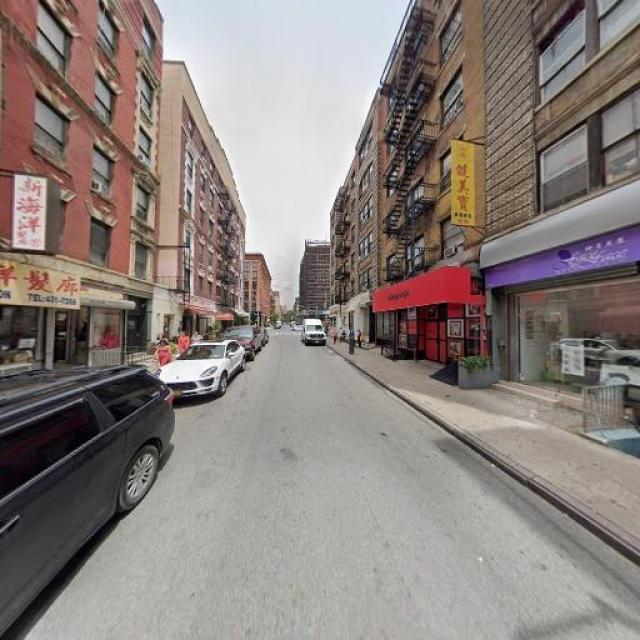Building: (332, 1, 640, 409), (1, 1, 153, 393), (184, 63, 243, 345)
